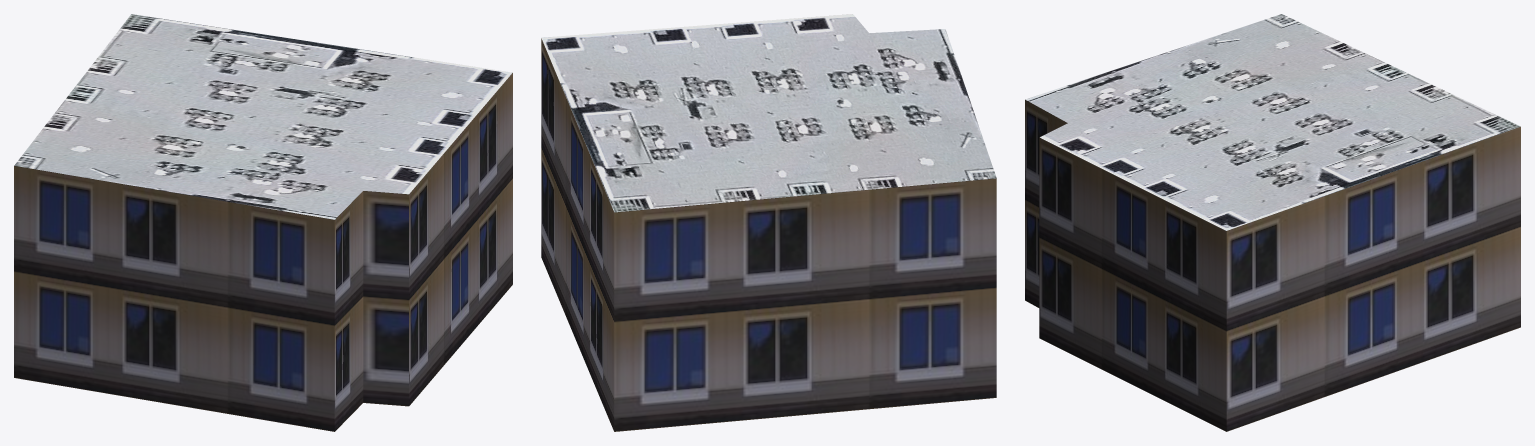
The model's file is ResTex__2794.fbx.
The picture shows the model from 3 angles, left to right: view 1: azimuth 30°, elevation 25°; view 2: azimuth 150°, elevation 25°; view 3: azimuth 270°, elevation 25°; orthographic projection. The views are drawn at different scales.
Parts seen in each view (by area): view 1: CityEngineMaterial_5_m, CityEngineMaterial_m; view 2: CityEngineMaterial_5_m, CityEngineMaterial_m; view 3: CityEngineMaterial_5_m, CityEngineMaterial_m.
Part boxes in pixels (<box>): CityEngineMaterial_5_m: <box>14,73,512,431</box>; CityEngineMaterial_m: <box>14,14,512,219</box>; CityEngineMaterial_5_m: <box>541,38,996,431</box>; CityEngineMaterial_m: <box>541,14,996,212</box>; CityEngineMaterial_5_m: <box>1025,99,1520,431</box>; CityEngineMaterial_m: <box>1025,14,1520,230</box>.
Size of the model in its own units: 13.9 by 6 by 13.42.
Materials: 2 (2 with a texture image).
